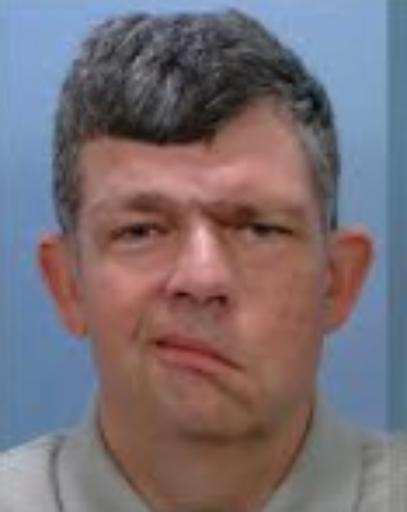left_eye: (231, 218, 300, 244)
left_lip_corner: (229, 352, 254, 383)
right_eye: (115, 219, 172, 250)
right_lip_corner: (141, 333, 172, 359)
